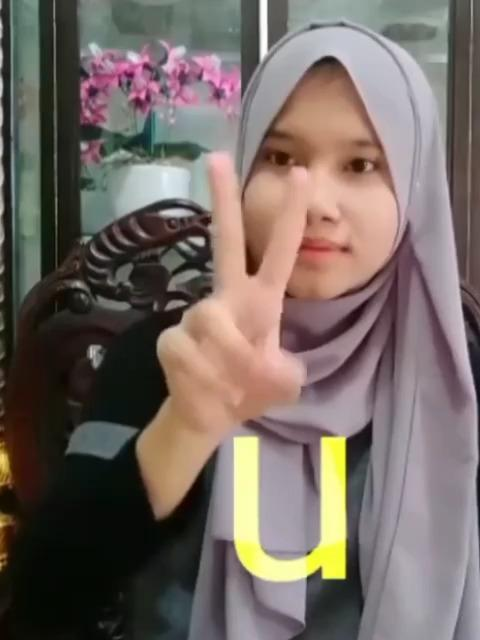V: (158, 148, 314, 434)
